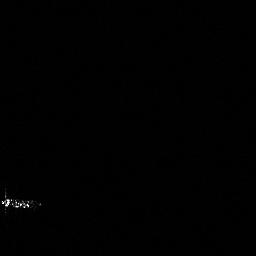ship: (1, 194, 42, 212)
